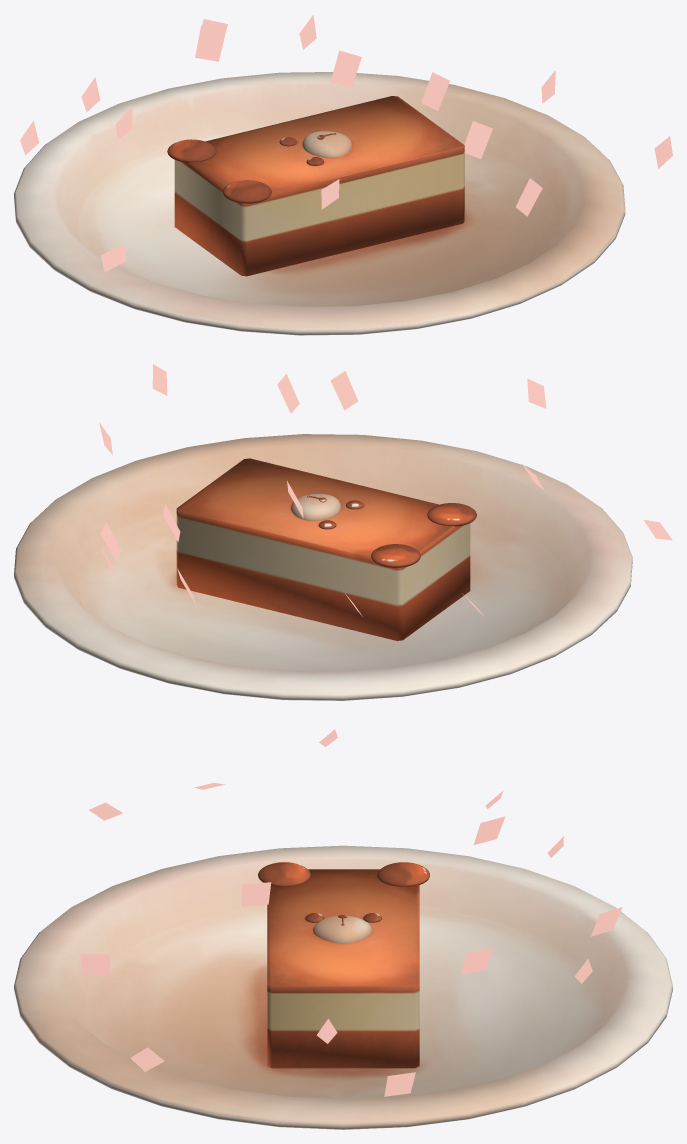
The model's file is mishkaKake.glb.
The picture shows the model from 3 angles, top to bottom: view 1: azimuth 30°, elevation 25°; view 2: azimuth 150°, elevation 25°; view 3: azimuth 270°, elevation 25°; orthographic projection. The views are drawn at different scales.
Visible parts, largest first — view 1: Circle, Cube, Sphere.002, Sphere.005, Sphere, Plane.002, Plane.005, Plane.013, Plane.012, Plane.009; view 2: Circle, Cube, Sphere.002, Sphere, Sphere.005, Plane.009; view 3: Circle, Cube, Sphere.002, Sphere, Sphere.005, Plane.012, Plane.009.
Boxes of the visible parts, x1,y1,x2,y2 form: Circle: [14, 72, 625, 335]; Cube: [174, 96, 464, 276]; Sphere.002: [302, 131, 352, 157]; Sphere.005: [223, 180, 271, 203]; Sphere: [167, 139, 216, 162]; Plane.002: [196, 19, 227, 55]; Plane.005: [330, 50, 361, 88]; Plane.013: [464, 121, 492, 158]; Plane.012: [421, 72, 449, 110]; Plane.009: [516, 178, 542, 216]; Circle: [14, 434, 632, 700]; Cube: [176, 458, 470, 640]; Sphere.002: [291, 493, 341, 520]; Sphere: [371, 544, 420, 567]; Sphere.005: [427, 503, 476, 526]; Plane.009: [330, 371, 357, 410]; Circle: [14, 845, 672, 1129]; Cube: [267, 869, 419, 1068]; Sphere.002: [313, 916, 372, 943]; Sphere: [377, 862, 429, 886]; Sphere.005: [258, 862, 310, 886]; Plane.012: [241, 882, 271, 906]; Plane.009: [80, 954, 110, 974].
Bounding box in the file's own units: 8.89 × 2.71 × 8.65.
Materials: 11 (10 with a texture image).
